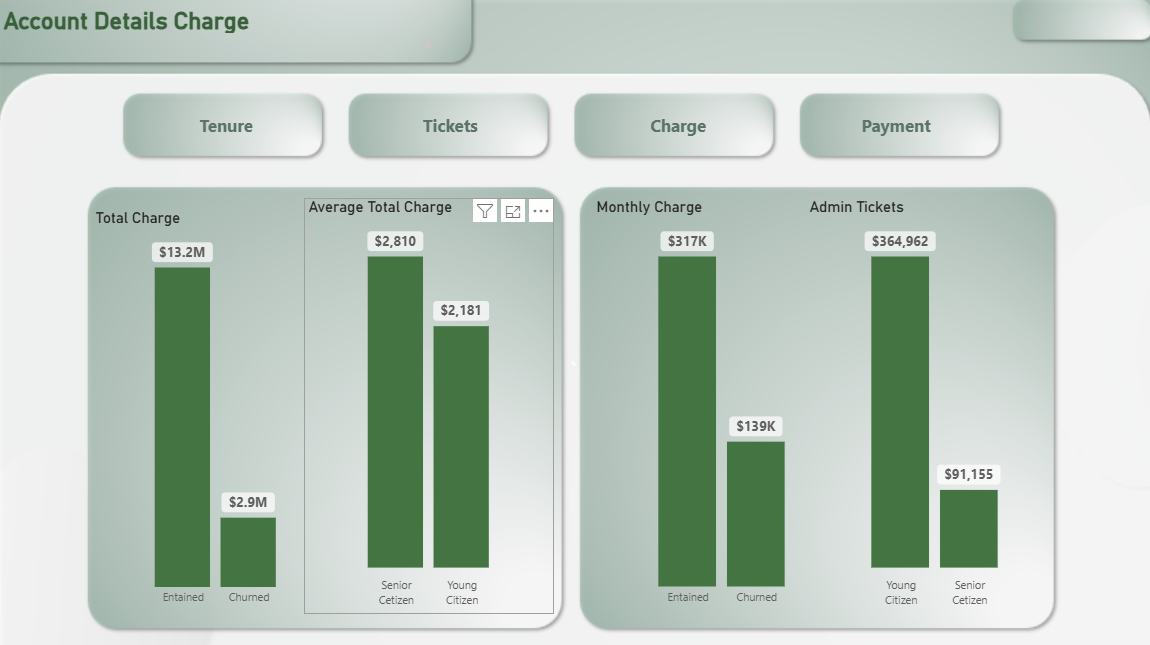

The page's visual inventory and layout, read from the dashboard file:
{"tool":"powerbi","page":{"name":"Account Details Charge","canvas":[1280,720],"ordinal":3},"visuals":[{"type":"textbox","title":"Account Details Charge","box":[0,7.1,484.8,52.4],"z":0},{"type":"actionButton","box":[416.3,114.9,169.3,48.4],"z":3000},{"type":"actionButton","box":[670.2,114.9,169.3,48.4],"z":4000},{"type":"actionButton","box":[912.1,114.9,169.3,48.4],"z":5000},{"type":"actionButton","box":[168.3,114.9,169.3,48.4],"z":6000},{"type":"lineClusteredColumnComboChart","title":"Average Total Charge","fields":{"Y":["Avg(01 Churn-Dataset.TotalCharges)"],"Category":["01 Churn-Dataset.CitizenShip seq"]},"box":[338.3,220,278.3,461.7],"z":6001},{"type":"lineClusteredColumnComboChart","title":"Monthly Charge","fields":{"Category":["01 Churn-Dataset.Customer status"],"Y":["Sum(01 Churn-Dataset.MonthlyCharges)"]},"box":[658.3,220,290,461.7],"z":6002},{"type":"lineClusteredColumnComboChart","title":"Admin Tickets","fields":{"Y":["Sum(01 Churn-Dataset.MonthlyCharges)"],"Category":["01 Churn-Dataset.CitizenShip seq"]},"box":[895,220,290,461.7],"z":6003},{"type":"lineClusteredColumnComboChart","title":"Total Charge","fields":{"Y":["Sum(01 Churn-Dataset.TotalCharges)"],"Category":["01 Churn-Dataset.Customer status"]},"box":[101.7,231.7,278.3,450],"z":6004}]}

Visuals, with their boxes in screenshot pixels (x1, y1, x2, y2), scaled from the page's 1280x720 canvas onto the 1150x645 screenshot:
"Account Details Charge" textbox: crop(0, 6, 436, 53)
actionButton: crop(374, 103, 526, 146)
actionButton: crop(602, 103, 754, 146)
actionButton: crop(819, 103, 972, 146)
actionButton: crop(151, 103, 303, 146)
"Average Total Charge" lineClusteredColumnComboChart: crop(304, 197, 554, 611)
"Monthly Charge" lineClusteredColumnComboChart: crop(591, 197, 852, 611)
"Admin Tickets" lineClusteredColumnComboChart: crop(804, 197, 1065, 611)
"Total Charge" lineClusteredColumnComboChart: crop(91, 208, 341, 611)
